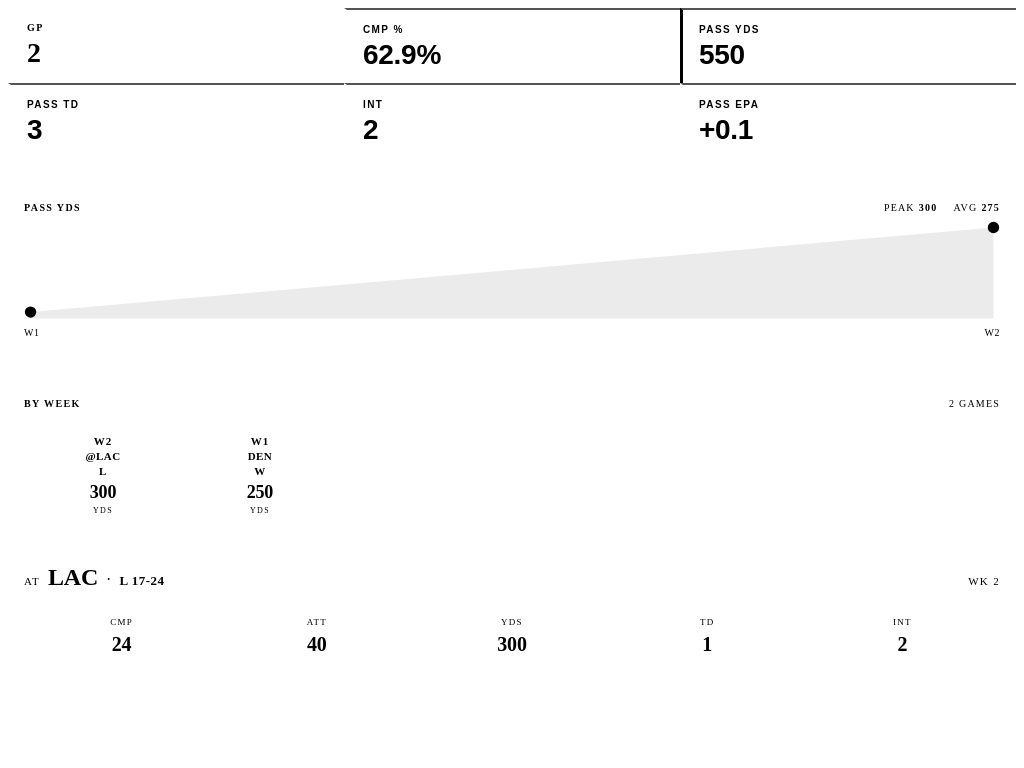
Test: Overview › selects the primary stat by default and swaps the sparkline on click
Check: the heading "PASS YDS" is shown, box left=24, top=202, right=81, bottom=213
Click the button "INT 2": click(373, 104) left=344, top=83, right=680, bottom=158
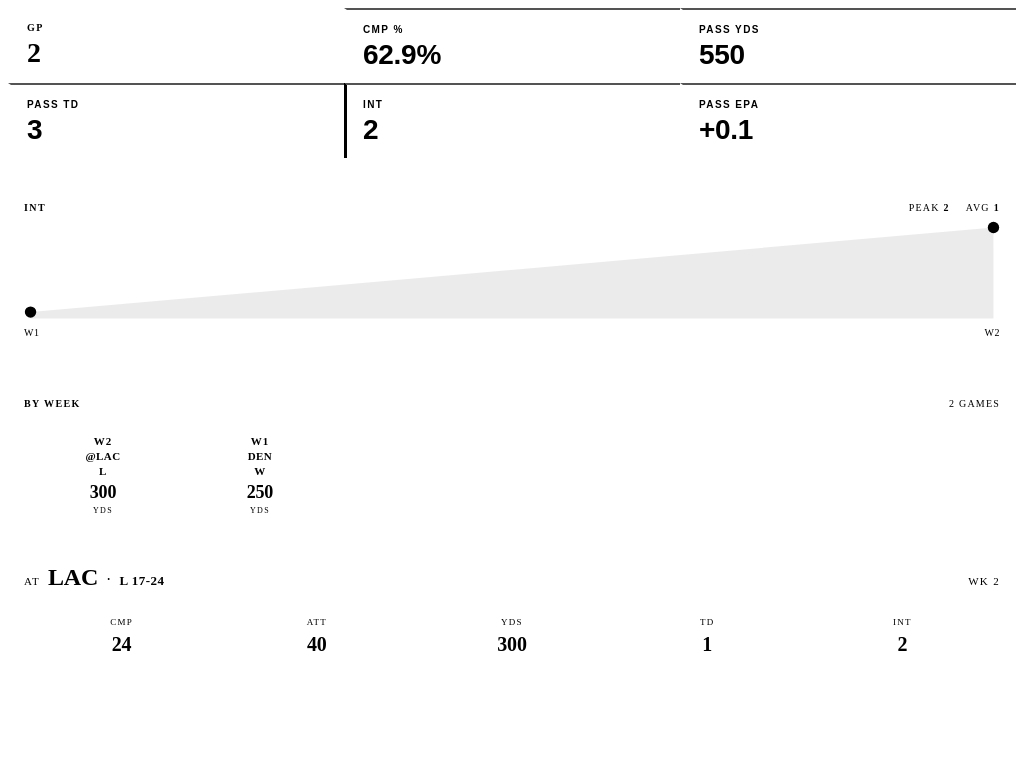
Check: the heading "INT" is shown, box left=24, top=202, right=46, bottom=213
Click the button "PASS EPA +0.1": click(729, 104) left=680, top=83, right=1016, bottom=158
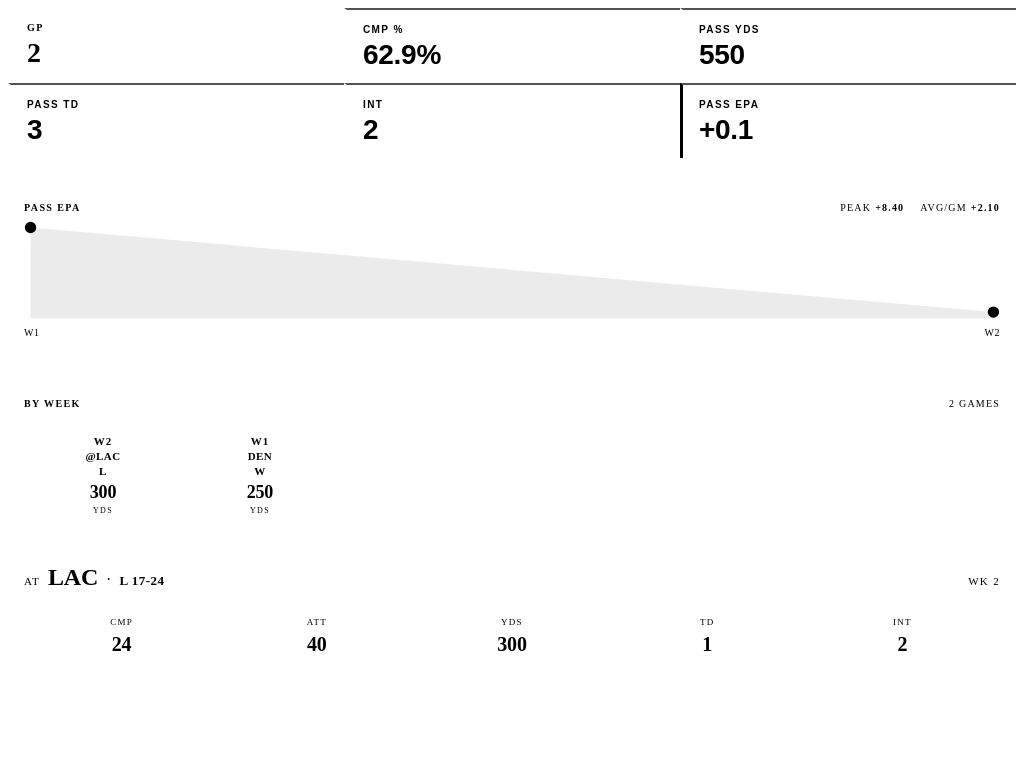
Check: the text "AVG/GM" is shown, box left=920, top=202, right=967, bottom=213
